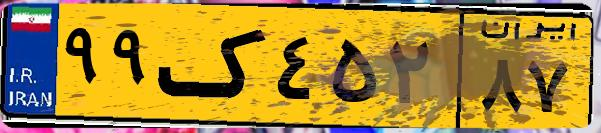2: (385, 28, 445, 110)
4: (270, 28, 330, 110)
5: (330, 28, 385, 110)
7: (525, 38, 570, 115)
8: (475, 38, 525, 113)
9: (57, 26, 110, 100), (110, 28, 158, 98)
ک: (158, 12, 270, 120)
